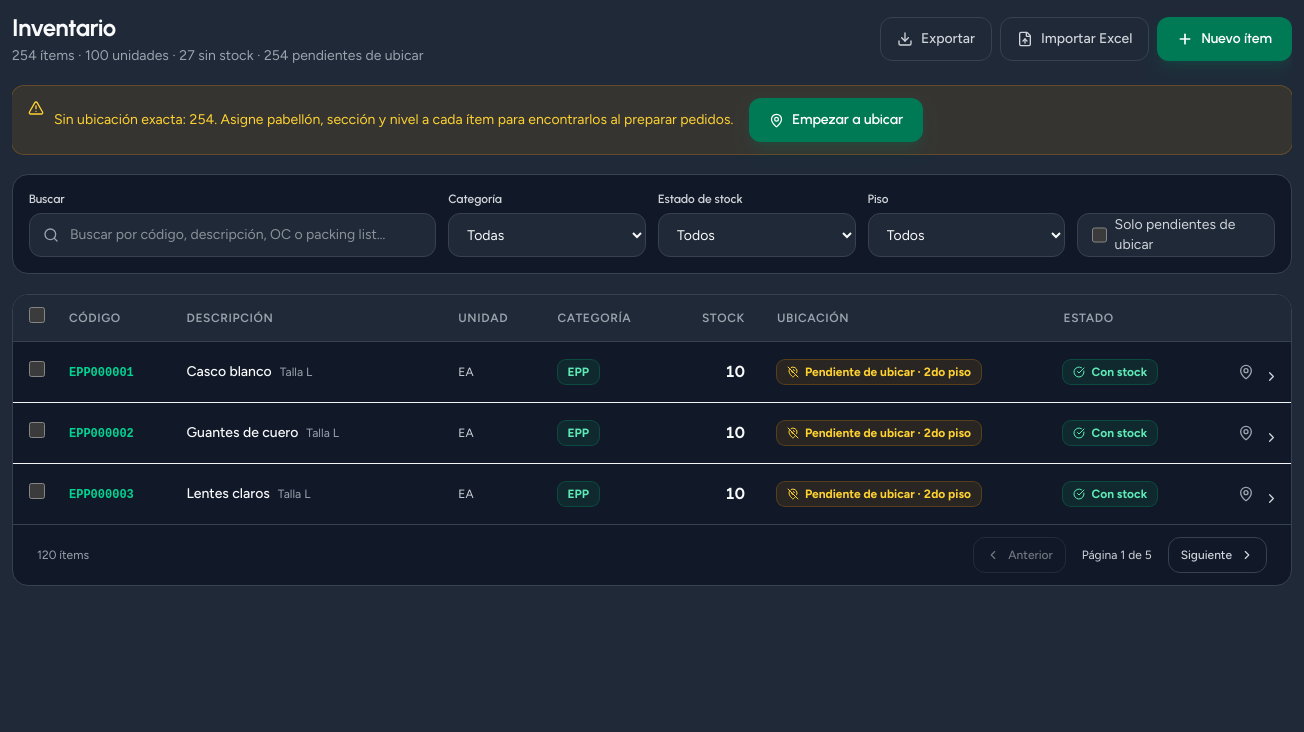
Test: InventarioPage — selección masiva › cambiar de página descarta la selección (no se asigna a ítems que ya no se ven)
Expected: the link "EPP000001" is shown, [69,366,134,380]
What coordinates should you click on to do the following:
click the checkbox named "Seleccionar EPP000001"
I would click on:
 (37, 369)
Its box is [29,361,45,377].
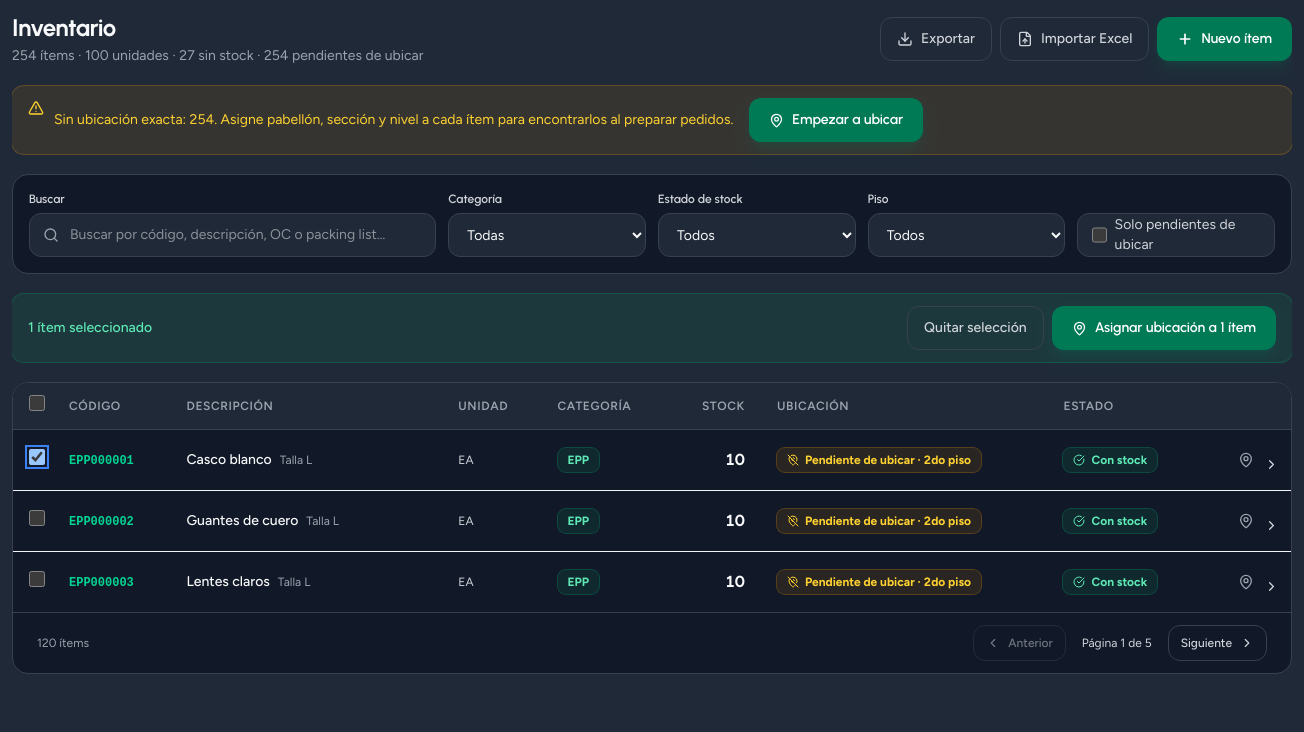
Expected: the text "1 ítem seleccionado" is shown, [28,318,152,338]
What coordinates should you click on to do the following:
click the button "Siguiente"
I would click on:
 (1217, 643)
Its box is [1168,625,1267,661].
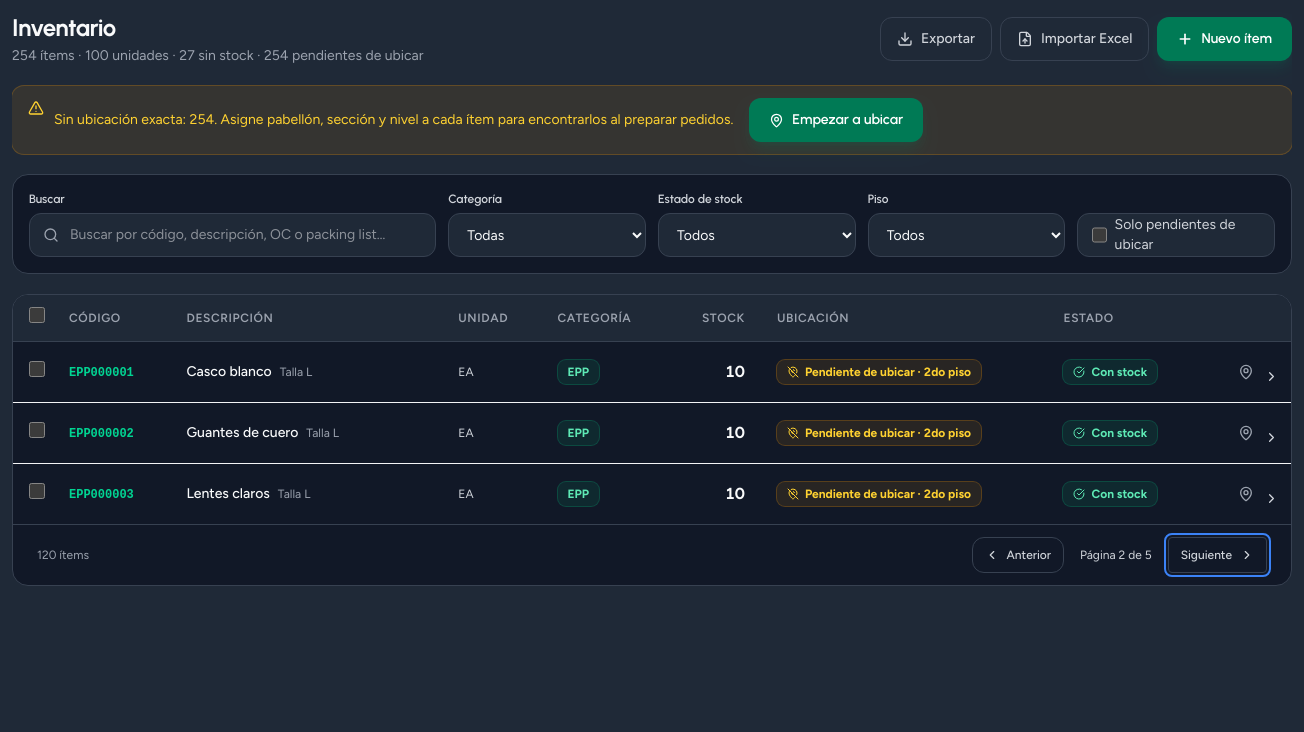
Expected: the text "ítem seleccionado" is gone
